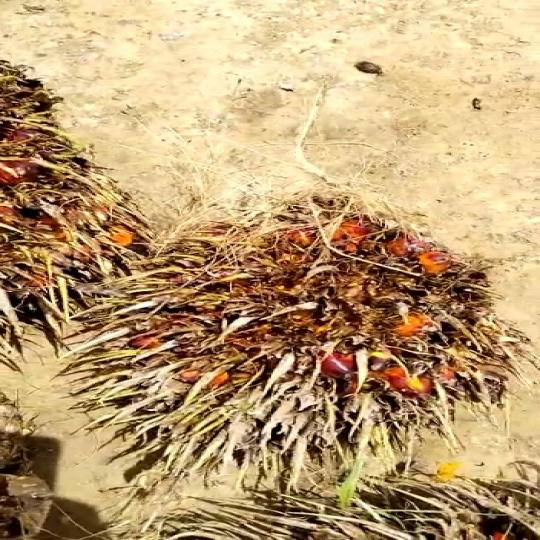terlalu masak: (59, 185, 540, 493)
